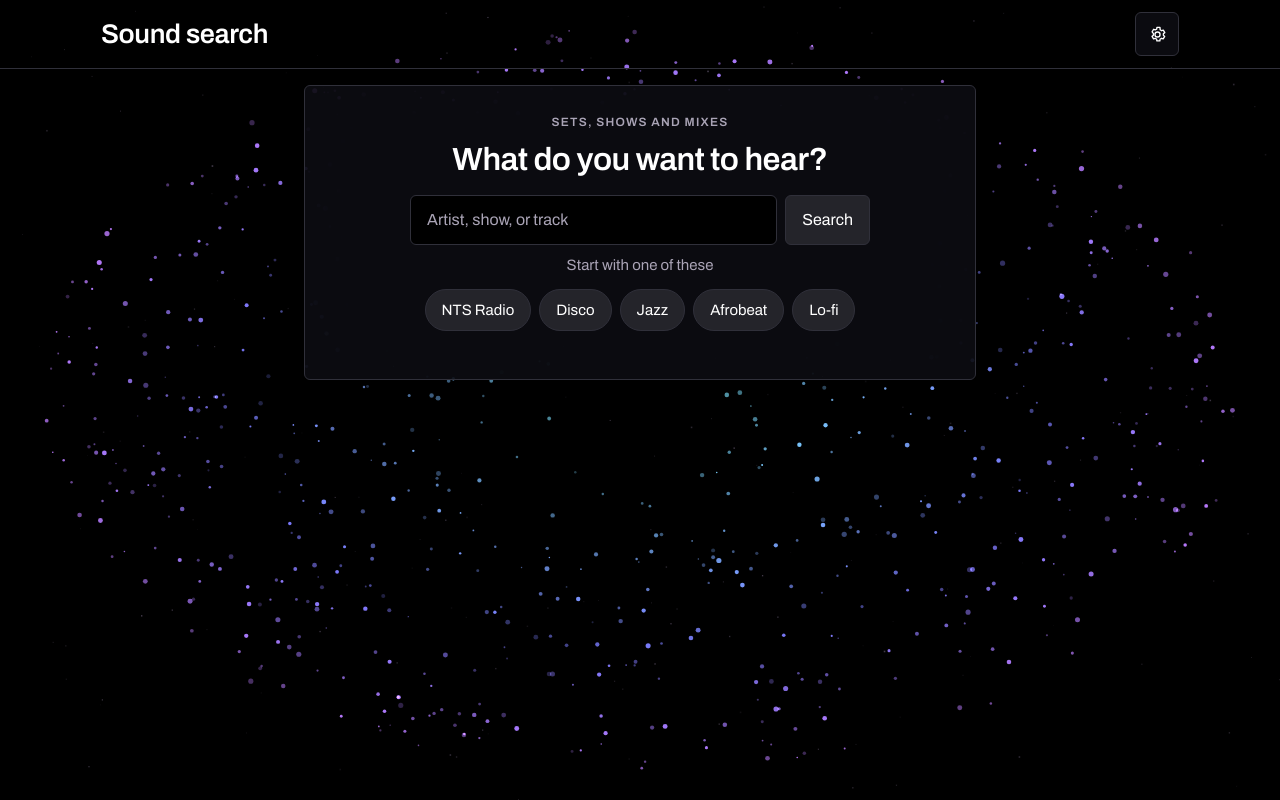
Test: App › keeps the board off the page until a search has something to say
Type "adele" into the search field named "search tracks" at (594, 220), box x1=410 y1=195 x2=777 y2=245
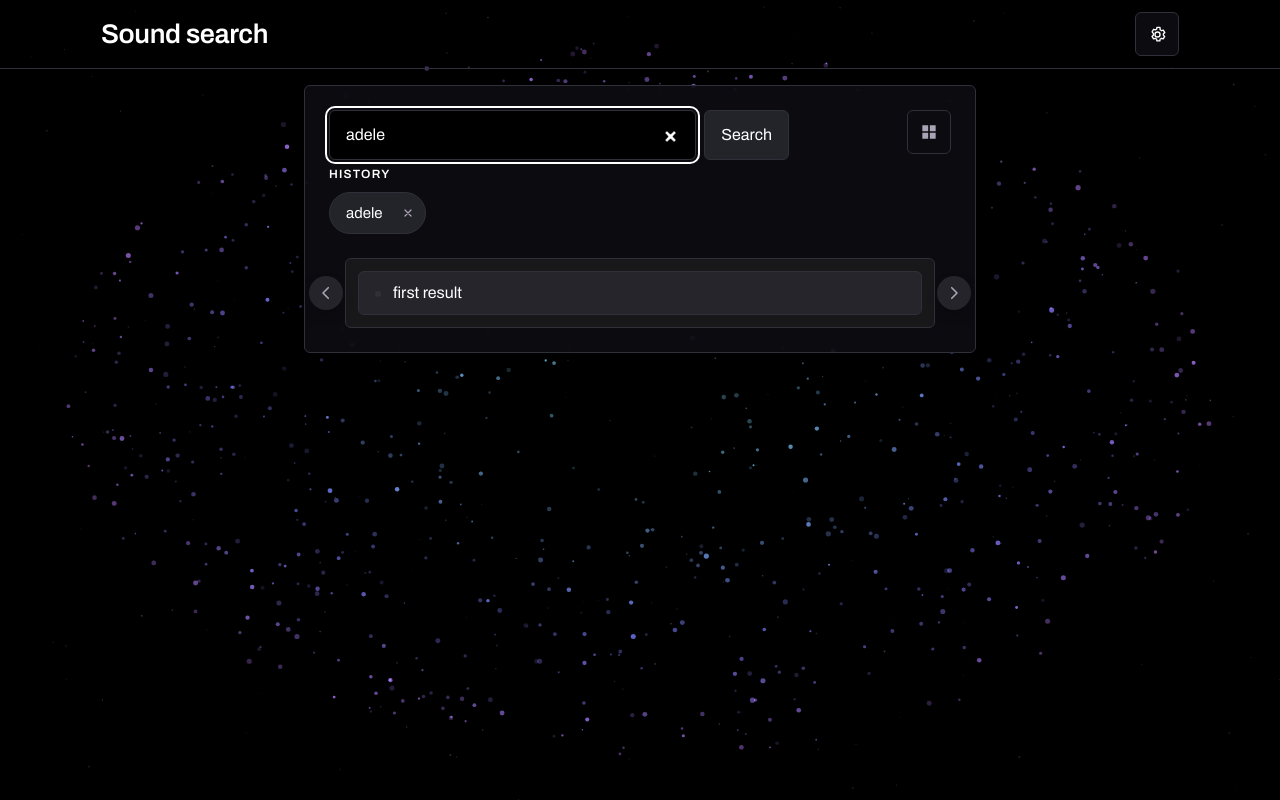
Now the button "first result" is shown, box x1=358 y1=271 x2=922 y2=315
Now the element named "Result pages" is shown, box x1=346 y1=259 x2=934 y2=327
